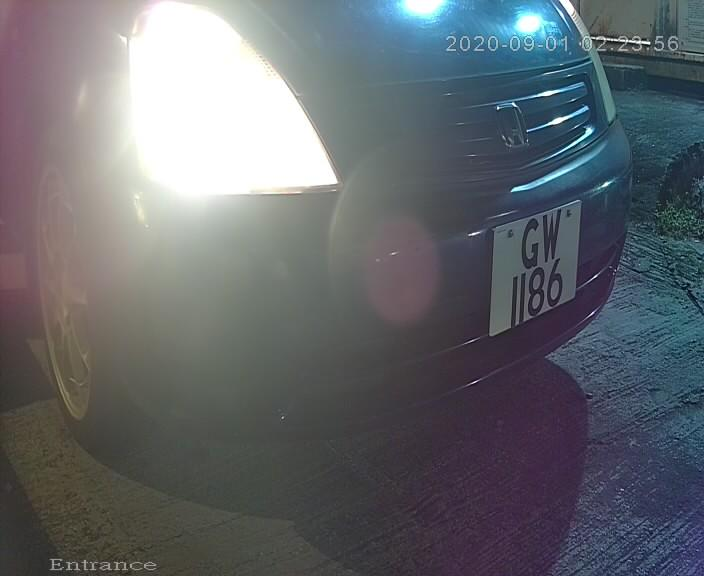License Plate: (488, 186, 576, 345)
